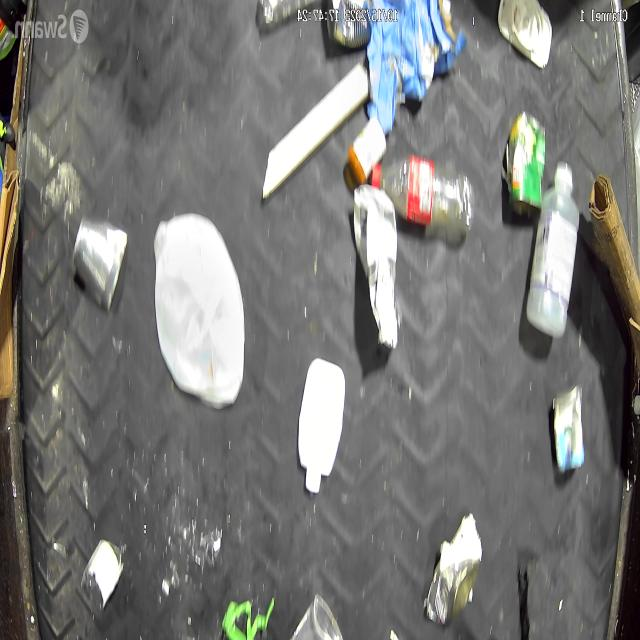can: (426, 510, 483, 624), (73, 216, 128, 318)
milk_jug: (152, 214, 242, 408)
plastic_bottle: (370, 157, 472, 226)
